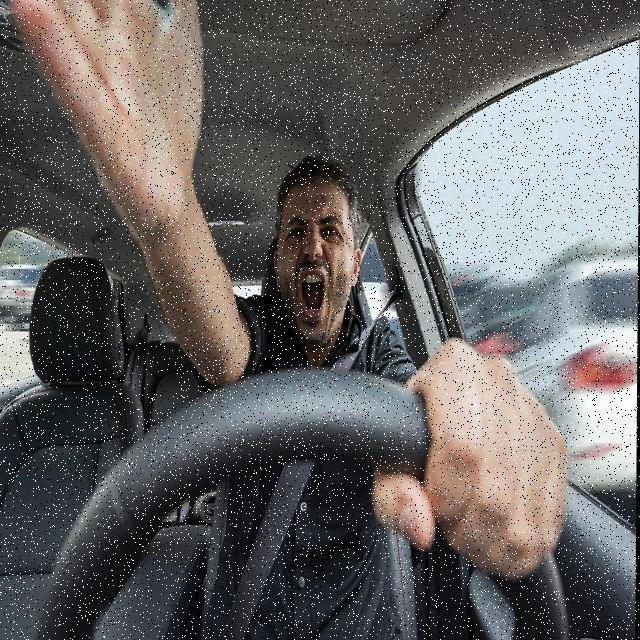seatbelt: (215, 420, 374, 640)
